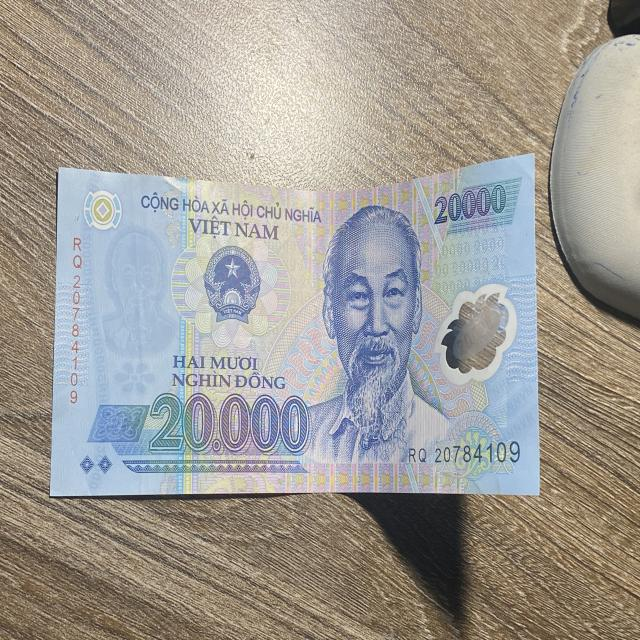20 000 VND: (49, 148, 542, 499)
